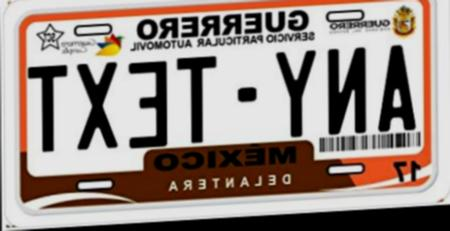License_Plate: (19, 0, 439, 213)
